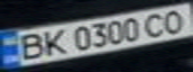0: (69, 24, 93, 52), (121, 15, 145, 43), (106, 18, 127, 45)
3: (90, 20, 112, 48)
B: (9, 30, 48, 62)
C: (139, 10, 172, 38)
K: (36, 27, 72, 57)
O: (157, 7, 193, 34)
